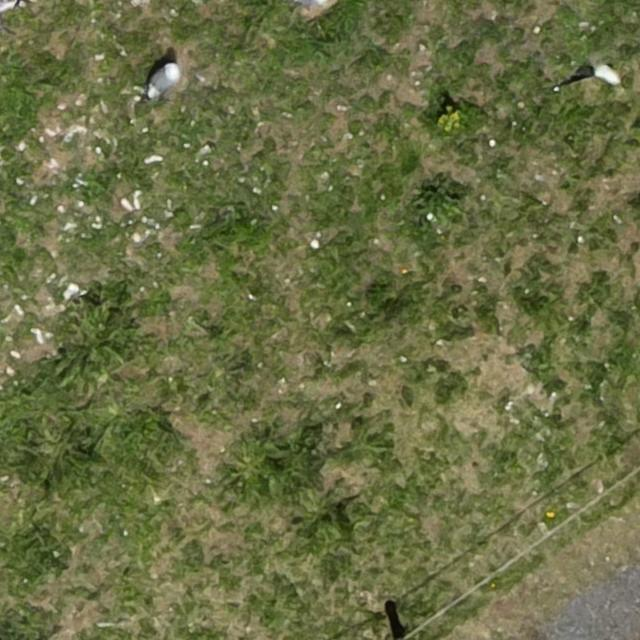umineko: (149, 64, 178, 96), (598, 66, 618, 84), (0, 0, 15, 11)
